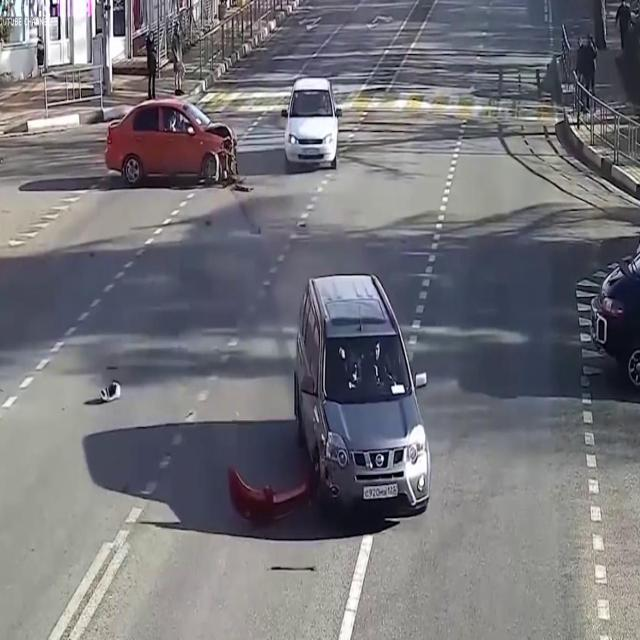accident: (216, 258, 446, 586), (95, 86, 261, 202)
